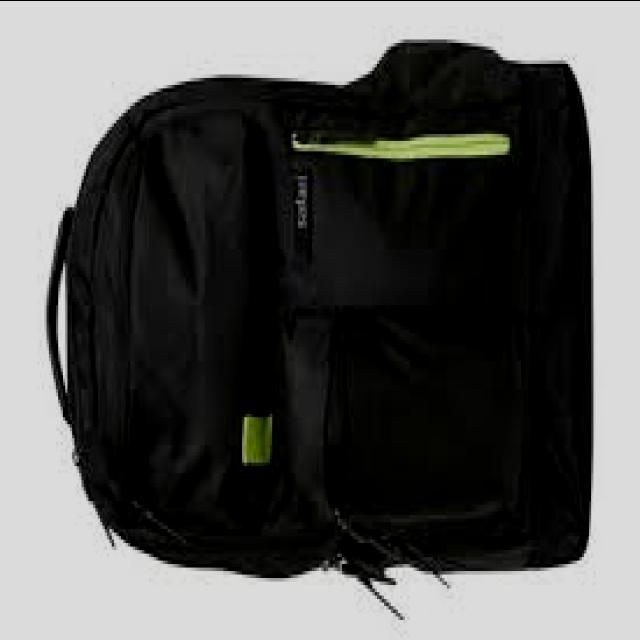backpack: (45, 40, 592, 620)
